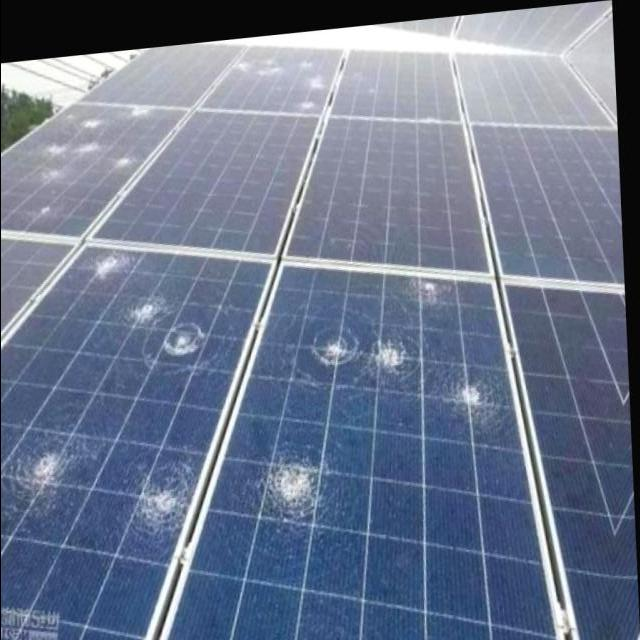cracked: (252, 258, 558, 640), (1, 252, 246, 630)
